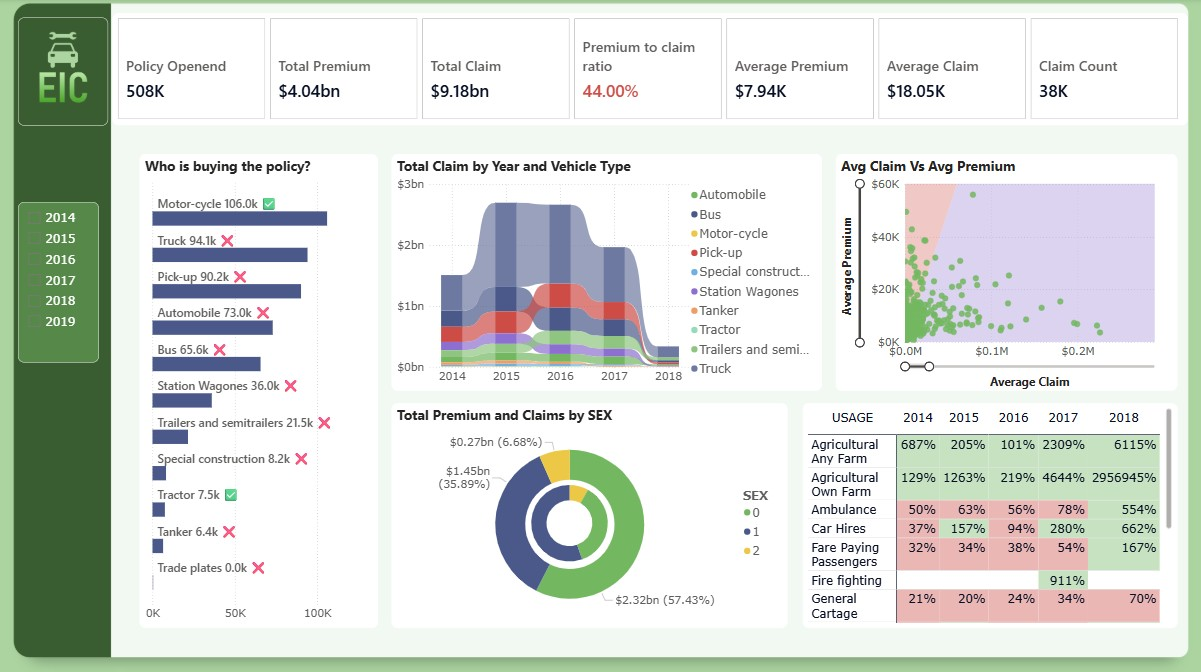

The dashboard page shown, as its layout file describes it:
{"tool":"powerbi","page":{"name":"Insurance Analysis","canvas":[1920,1080],"ordinal":0},"visuals":[{"type":"cardVisual","fields":{"Data":["policies.Policy Openend","policies.Total Premium","policies.Total Claim","policies.Premium to clain ratio","policies.Average PErmium","policies.Average Claim2","policies.claim Count"]},"box":[183.7,23.9,1710.7,178.9],"z":0},{"type":"slicer","fields":{"Values":["calendar.Year"]},"box":[33.4,324.5,128.8,255.3],"z":1000},{"type":"clusteredBarChart","title":"Who is buying the policy?","fields":{"Category":["policies.TYPE_VEHICLE"],"Y":["policies.Dummy Series","policies.Policy Openend"]},"box":[226.7,248.1,379.4,753.9],"z":2000},{"type":"ribbonChart","fields":{"Category":["calendar.Year"],"Series":["policies.TYPE_VEHICLE"],"Y":["policies.Total Claim"]},"box":[627.5,248.1,684.8,377],"z":3000},{"type":"donutChart","title":"Total Premium and Claims by SEX","fields":{"Y":["policies.Total Premium"],"Category":["policies.SEX"]},"box":[627.5,644.2,629.9,357.9],"z":4000},{"type":"donutChart","fields":{"Category":["policies.SEX"],"Y":["policies.Total Claim"]},"box":[804.1,758.7,212.3,162.2],"z":5000},{"type":"image","box":[33.4,31,143.2,171.8],"z":6000},{"type":"scatterChart","title":"Avg Claim Vs Avg Premium","fields":{"X":["policies.Average Claim2"],"Y":["policies.Average PErmium"],"Category":["policies.TYPE_VEHICLE","policies.MAKE"]},"box":[1333.7,248.1,544,377],"z":7000},{"type":"pivotTable","fields":{"Rows":["policies.USAGE"],"Columns":["calendar.Year"],"Values":["policies.Premium to claim ratio"]},"box":[1281.2,644.2,596.5,357.9],"z":8000}]}

Visuals, with their boxes in screenshot pixels (x1, y1, x2, y2), scaled from the page's 1920x1080 canvas onto the 1201x672 screenshot:
cardVisual - policies.Policy Openend x policies.Total Premium: rect(115, 15, 1185, 126)
slicer - calendar.Year: rect(21, 202, 101, 361)
"Who is buying the policy?" clusteredBarChart: rect(142, 154, 379, 623)
ribbonChart - calendar.Year x policies.TYPE_VEHICLE: rect(393, 154, 821, 389)
"Total Premium and Claims by SEX" donutChart: rect(393, 401, 787, 624)
donutChart - policies.SEX x policies.Total Claim: rect(503, 472, 636, 573)
image: rect(21, 19, 110, 126)
"Avg Claim Vs Avg Premium" scatterChart: rect(834, 154, 1175, 389)
pivotTable - policies.USAGE x calendar.Year: rect(801, 401, 1175, 624)
